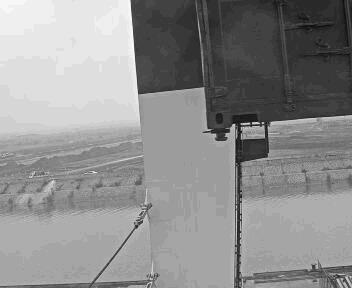twist_lock_1: (207, 124, 231, 148)
